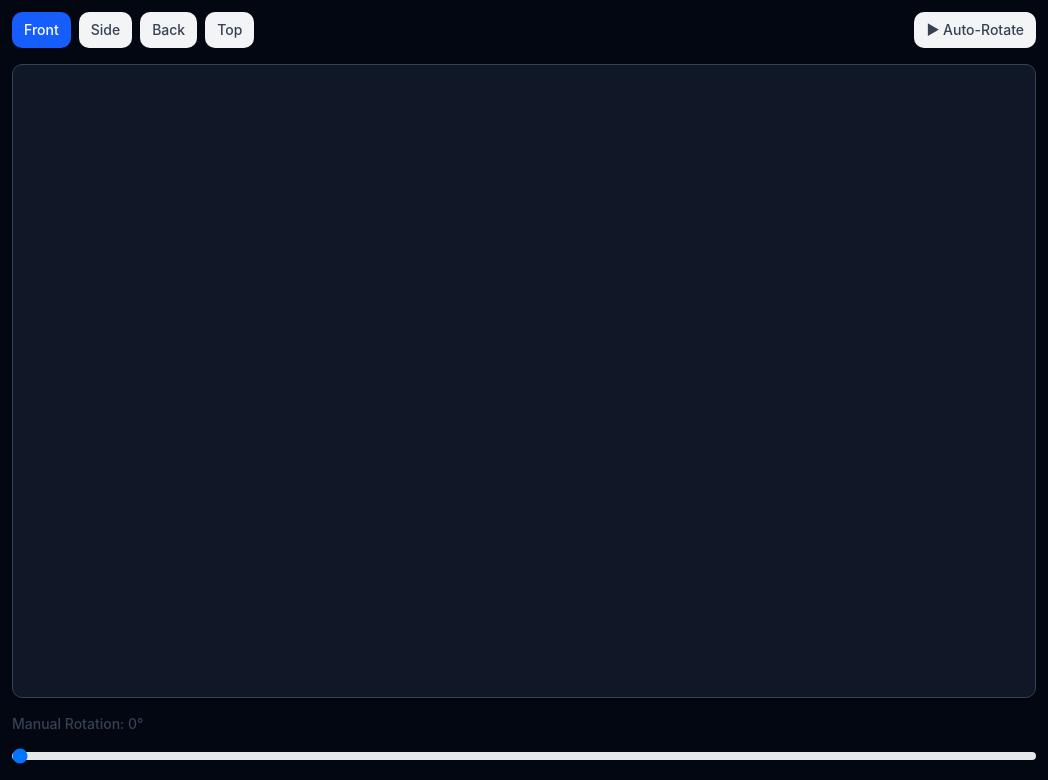
SkeletonVisualization › Rotation Controls › should toggle auto-rotation
Start auto-rotation
Click the button "▶ Auto-Rotate" at (975, 30), box top-left (914, 12), bottom-right (1036, 48)
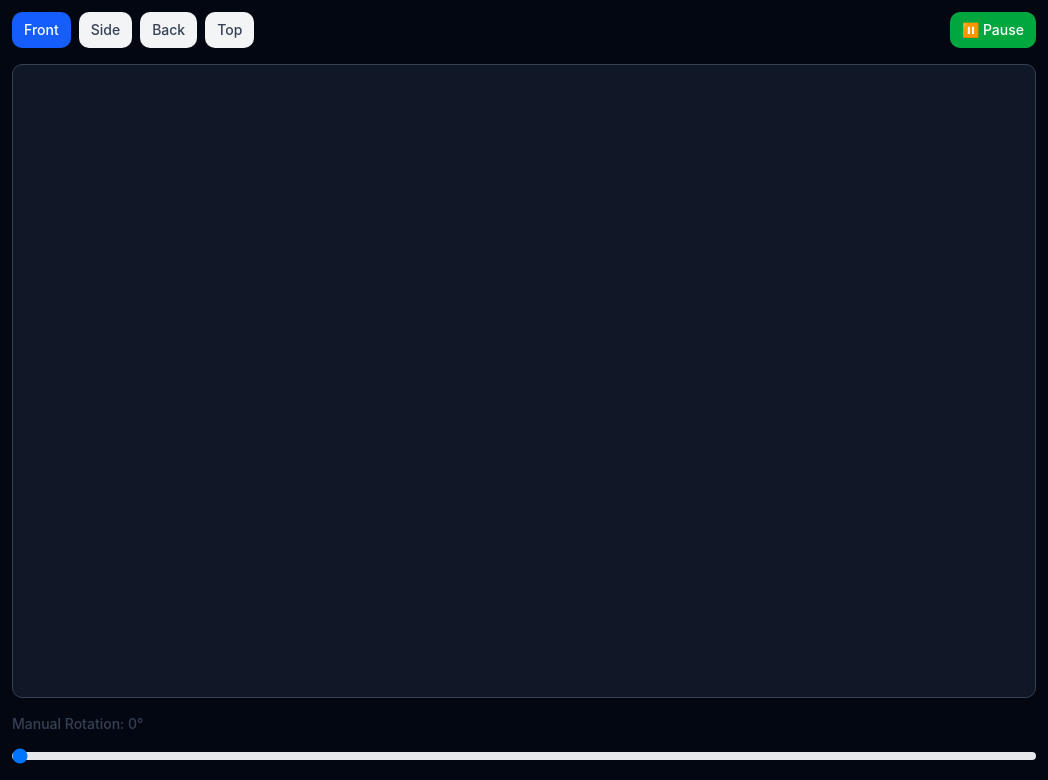
Now the button "⏸ Pause" is shown
Stop auto-rotation
Click the button "⏸ Pause" at (993, 30), box top-left (950, 12), bottom-right (1036, 48)
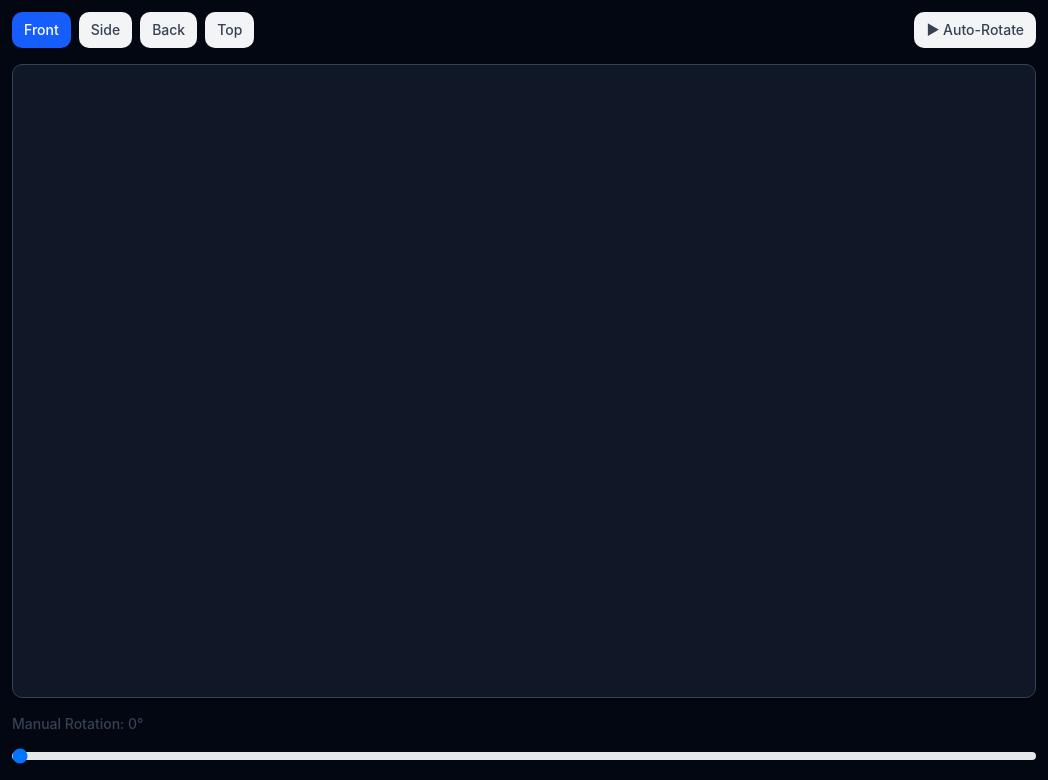
Now the button "▶ Auto-Rotate" is shown, box top-left (914, 12), bottom-right (1036, 48)
